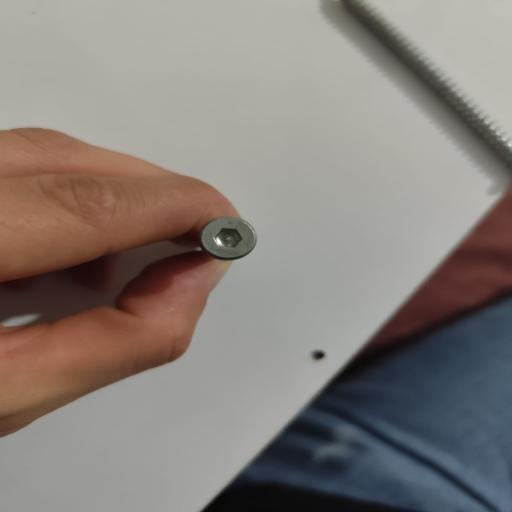Hex-Allen: (201, 215, 256, 261)
